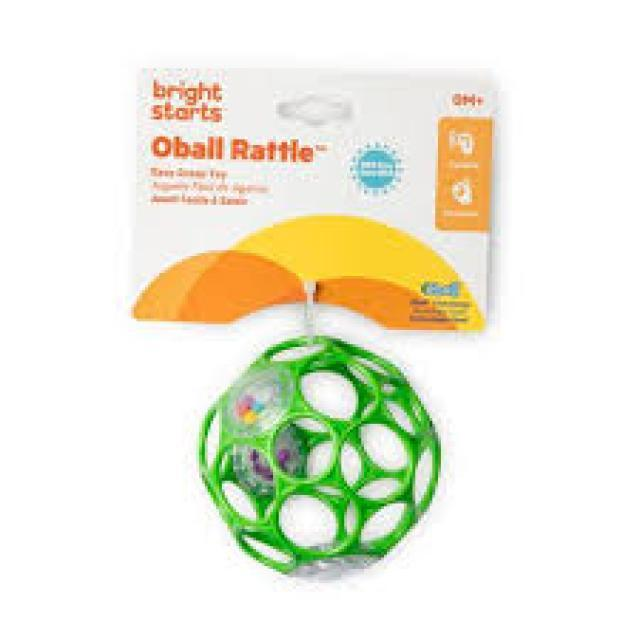hard-toy: (199, 335, 441, 579)
